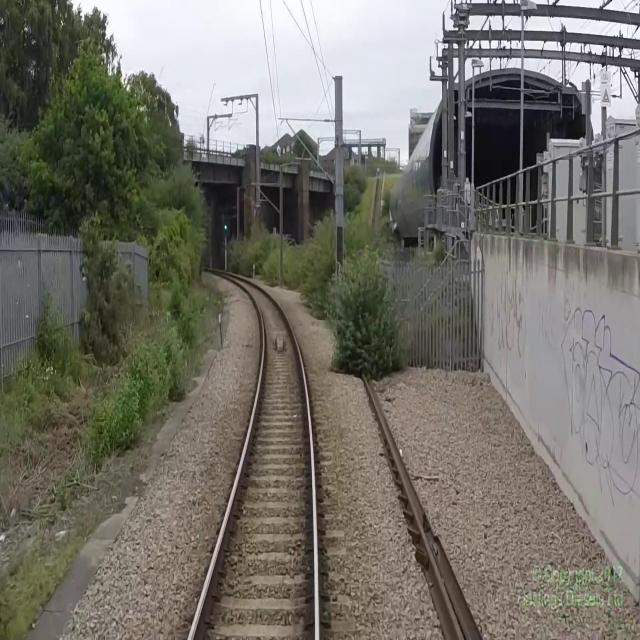rail-track: (191, 274, 313, 639)
